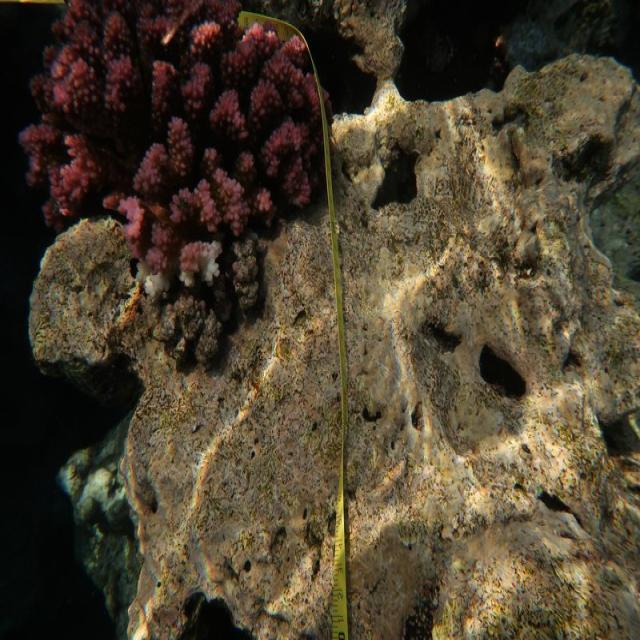Bleached Coral: (126, 272, 169, 305), (204, 245, 223, 286)
Healthy Coral: (21, 0, 314, 244)
